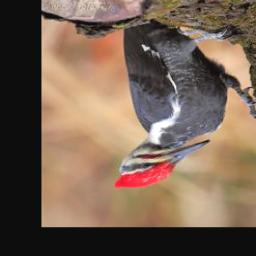Woodpecker: (114, 21, 256, 190)
